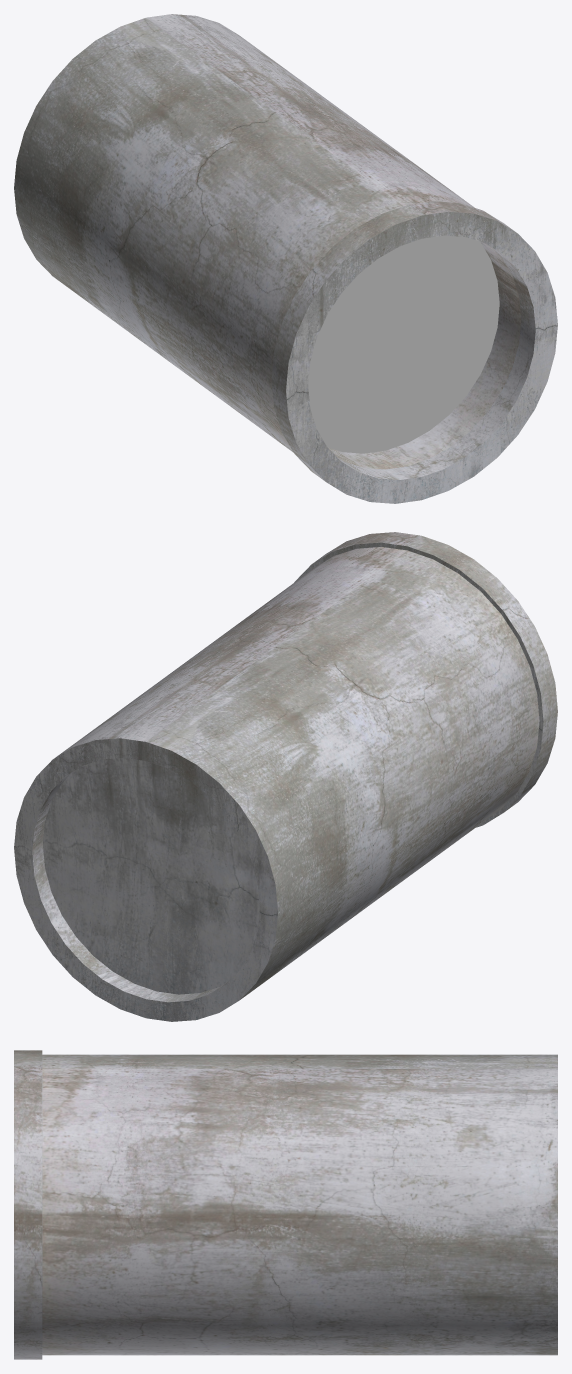
Rendered from Dokantunnel01b.fbx.
3 renders of one model, top to bottom at view 1: azimuth 30°, elevation 25°; view 2: azimuth 150°, elevation 25°; view 3: azimuth 270°, elevation 25°, orthographic.
Parts seen in each view (by area): view 1: Dokantunnel01b; view 2: Dokantunnel01b; view 3: Dokantunnel01b.
Boxes of the visible parts, x1=… form: Dokantunnel01b: x1=14, y1=14, x2=557, y2=503; Dokantunnel01b: x1=14, y1=532, x2=557, y2=1021; Dokantunnel01b: x1=14, y1=1050, x2=557, y2=1359.
Size of the model in its own units: 2.39 by 2.39 by 4.2.
